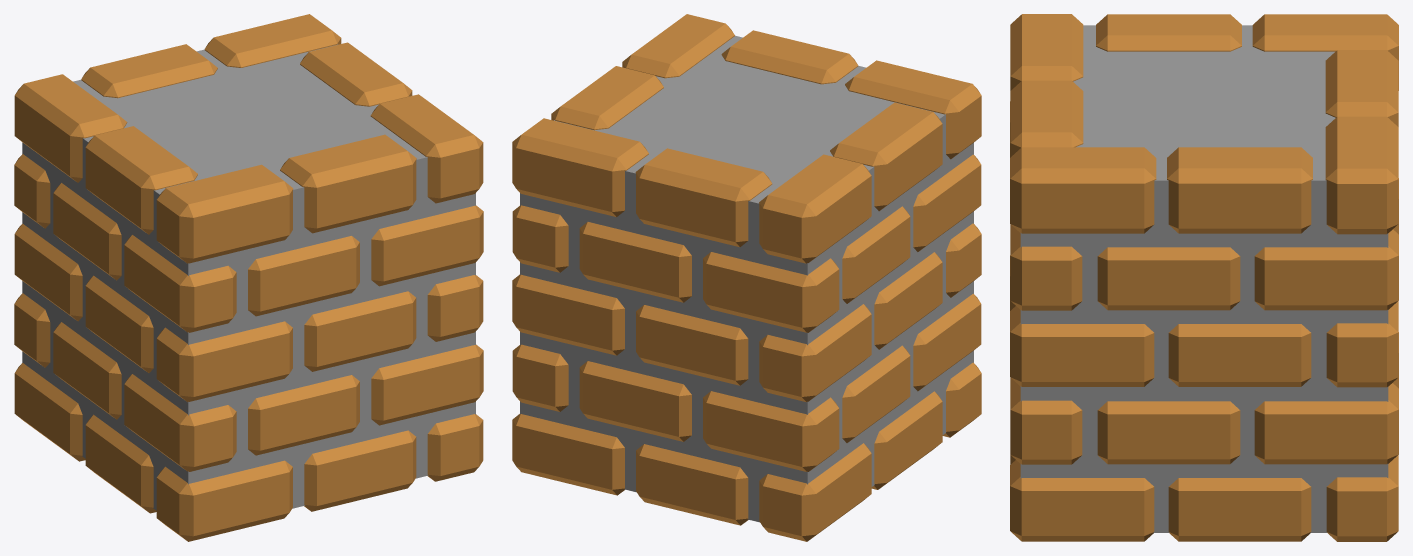
Rendered from brick-wall.gltf.
The picture shows the model from 3 angles, left to right: view 1: azimuth 30°, elevation 25°; view 2: azimuth 150°, elevation 25°; view 3: azimuth 270°, elevation 25°; orthographic projection. The views are drawn at different scales.
Parts seen in each view (by area): view 1: brick-wall; view 2: brick-wall; view 3: brick-wall.
Boxes of the visible parts, box(x1,y1,x2,y2) form: brick-wall: box(14, 14, 483, 541); brick-wall: box(512, 14, 981, 541); brick-wall: box(1010, 14, 1398, 541).
Bounding box in the file's own units: 0.9991 × 1.06 × 0.9982.
1 material, 1 textured.
